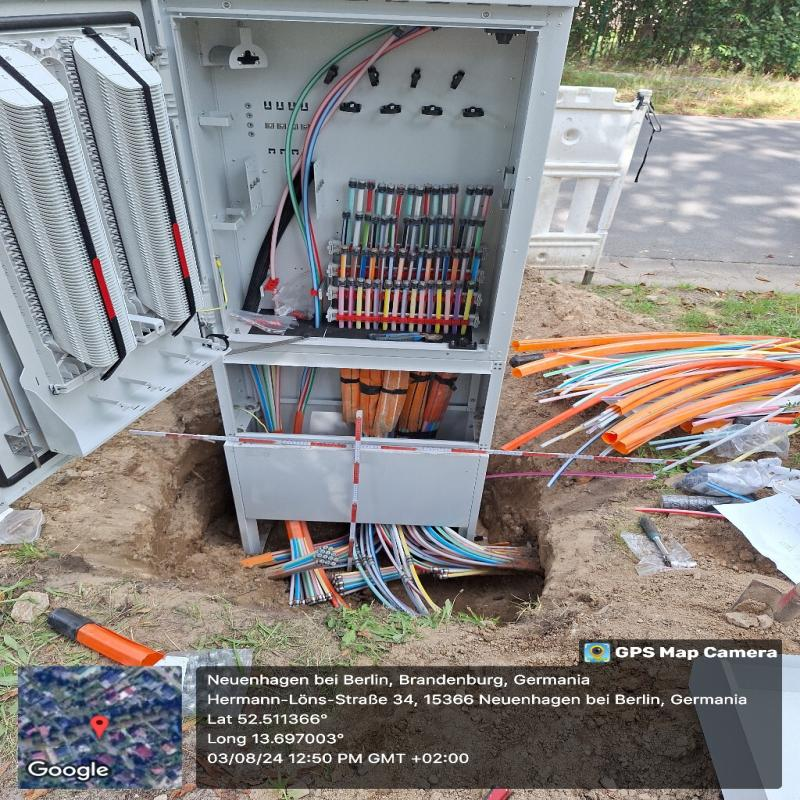NT-Gehause: (0, 5, 576, 529)
Spleiskassetten: (0, 40, 147, 375), (59, 32, 221, 333)
